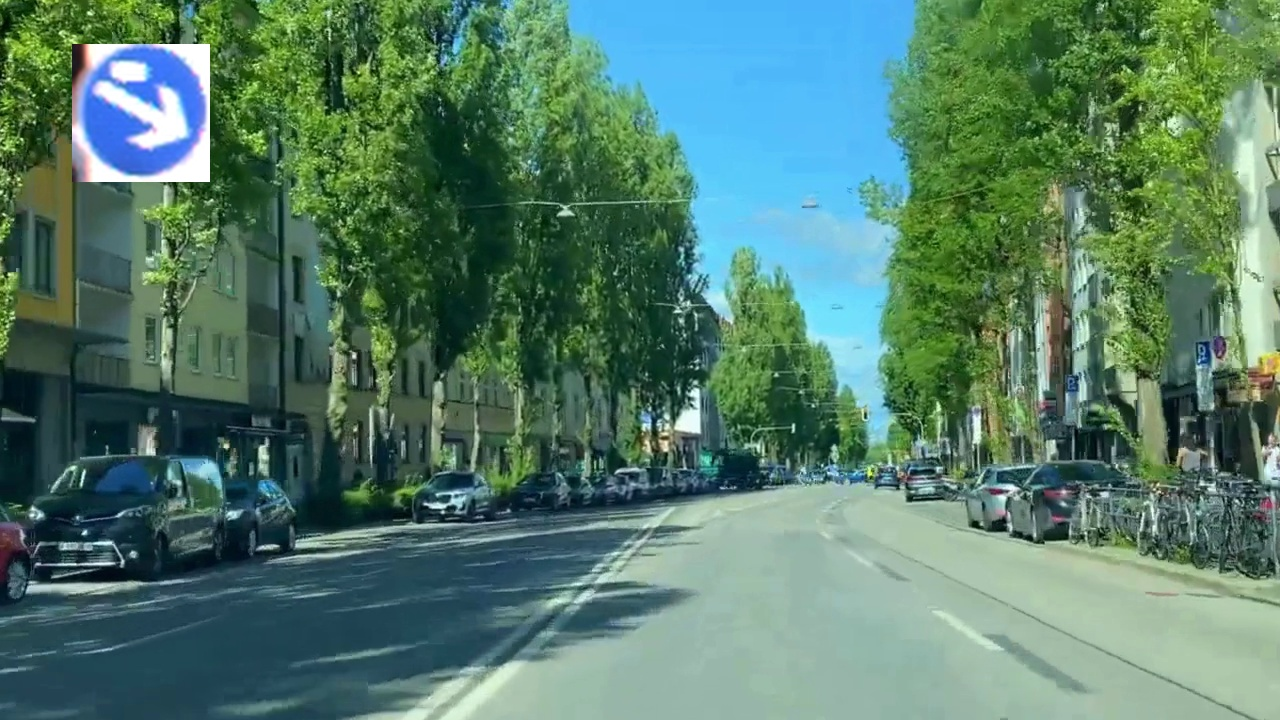Keep right: (72, 44, 210, 182)
